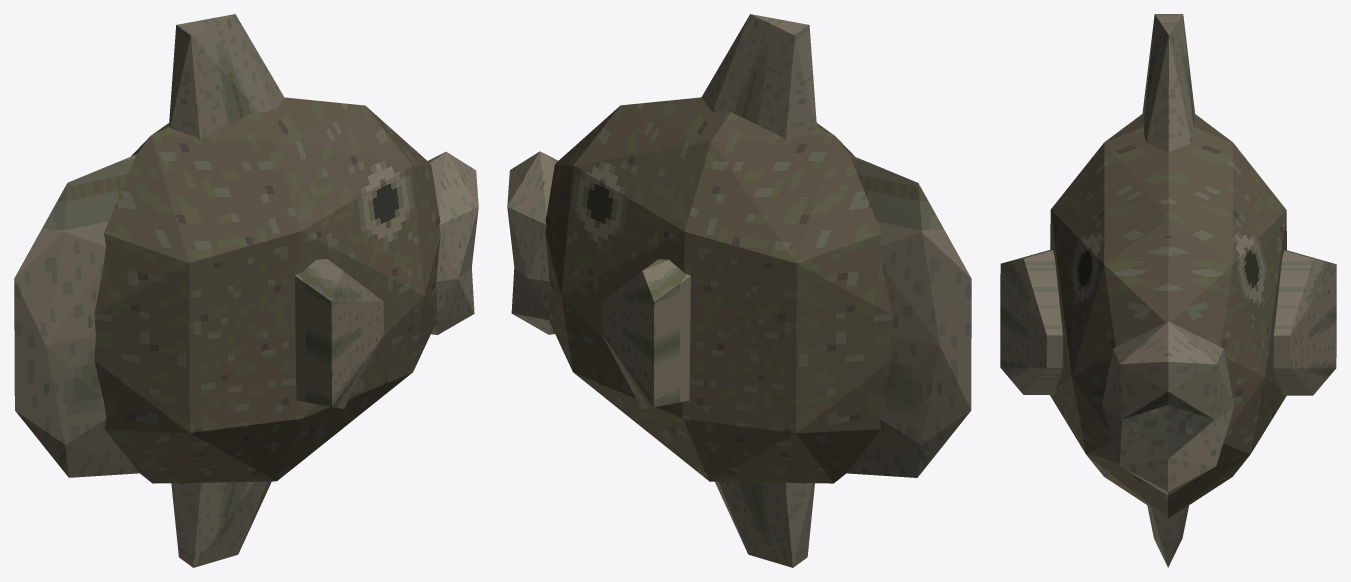
Rendered from sala3-pieza2.glb.
The picture shows the model from 3 angles, left to right: view 1: azimuth 30°, elevation 25°; view 2: azimuth 150°, elevation 25°; view 3: azimuth 270°, elevation 25°; orthographic projection.
Parts seen in each view (by area): view 1: 075_700ECF71_c.bmp, 077_1295C753_c.bmp, 078_5B6325F7_c.bmp, 076_57E32FAF_c.bmp; view 2: 075_700ECF71_c.bmp, 077_1295C753_c.bmp, 078_5B6325F7_c.bmp, 076_57E32FAF_c.bmp; view 3: 075_700ECF71_c.bmp, 076_57E32FAF_c.bmp, 078_5B6325F7_c.bmp.
Boxes of the visible parts, x1=… form: 075_700ECF71_c.bmp: x1=94, y1=97, x2=478, y2=483; 077_1295C753_c.bmp: x1=14, y1=154, x2=139, y2=477; 078_5B6325F7_c.bmp: x1=169, y1=14, x2=284, y2=567; 076_57E32FAF_c.bmp: x1=295, y1=259, x2=383, y2=408; 075_700ECF71_c.bmp: x1=507, y1=97, x2=891, y2=483; 077_1295C753_c.bmp: x1=847, y1=154, x2=971, y2=477; 078_5B6325F7_c.bmp: x1=701, y1=14, x2=816, y2=567; 076_57E32FAF_c.bmp: x1=602, y1=259, x2=690, y2=409; 075_700ECF71_c.bmp: x1=1050, y1=114, x2=1286, y2=518; 076_57E32FAF_c.bmp: x1=1000, y1=250, x2=1336, y2=395; 078_5B6325F7_c.bmp: x1=1142, y1=14, x2=1194, y2=567.
Bounding box in the file's own units: 0.2917 × 0.3266 × 0.1873.
6 materials, 6 textured.
